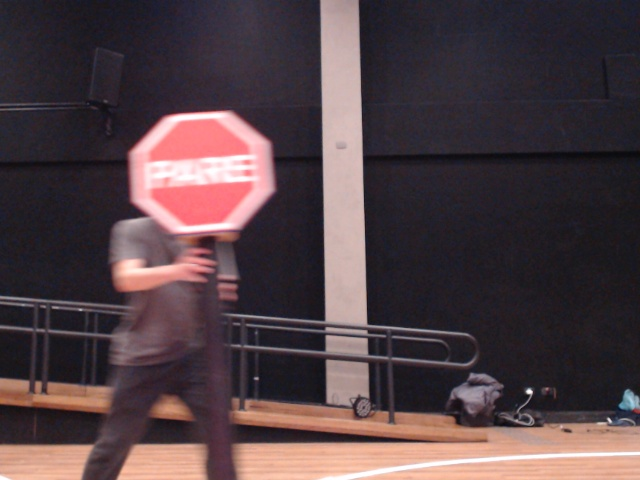SEMAFORO: (69, 72, 345, 326)
